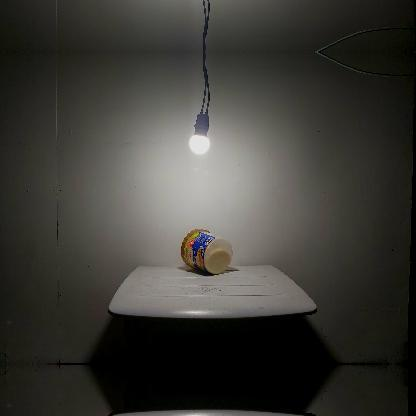Lady-s-Choice: (181, 228, 233, 274)
